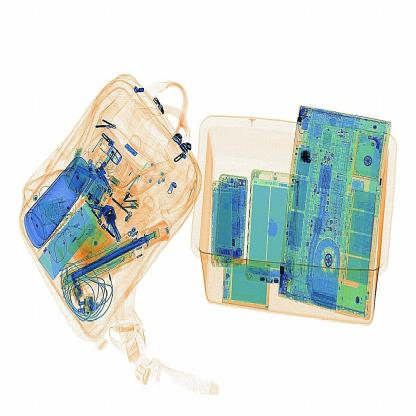scissors: (299, 146, 318, 168)
